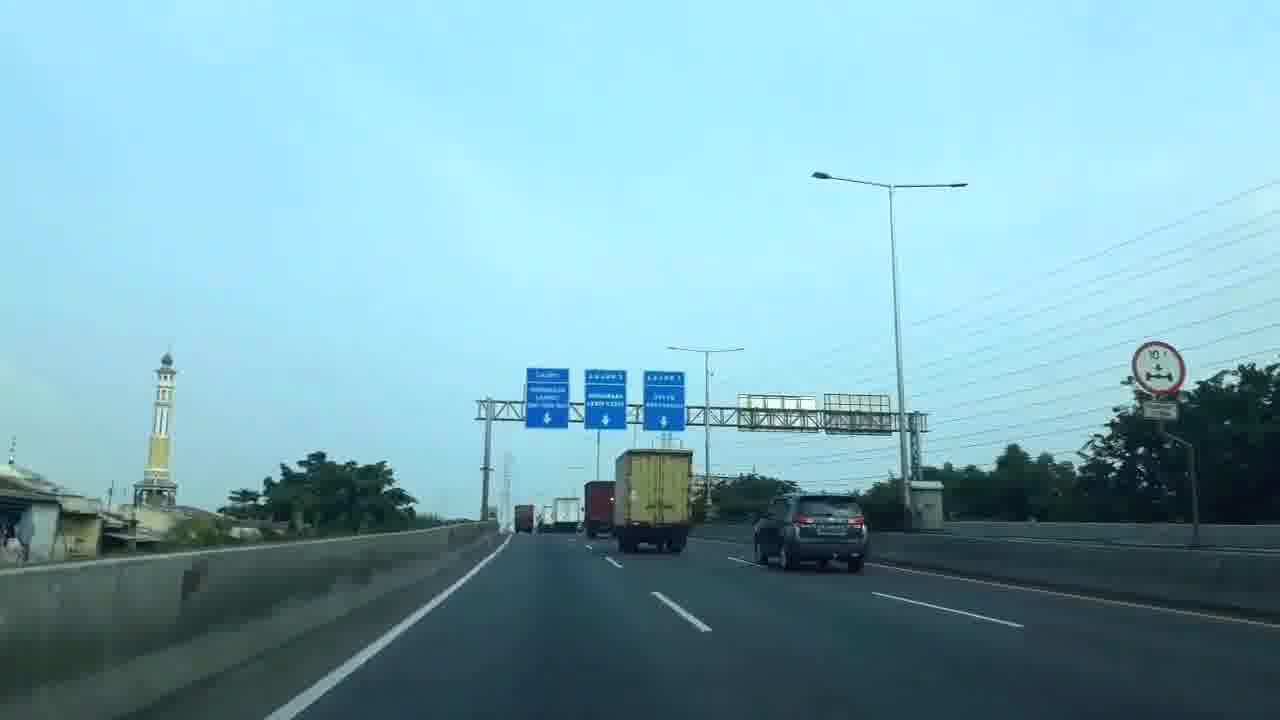plate_positive: (819, 524, 845, 533)
